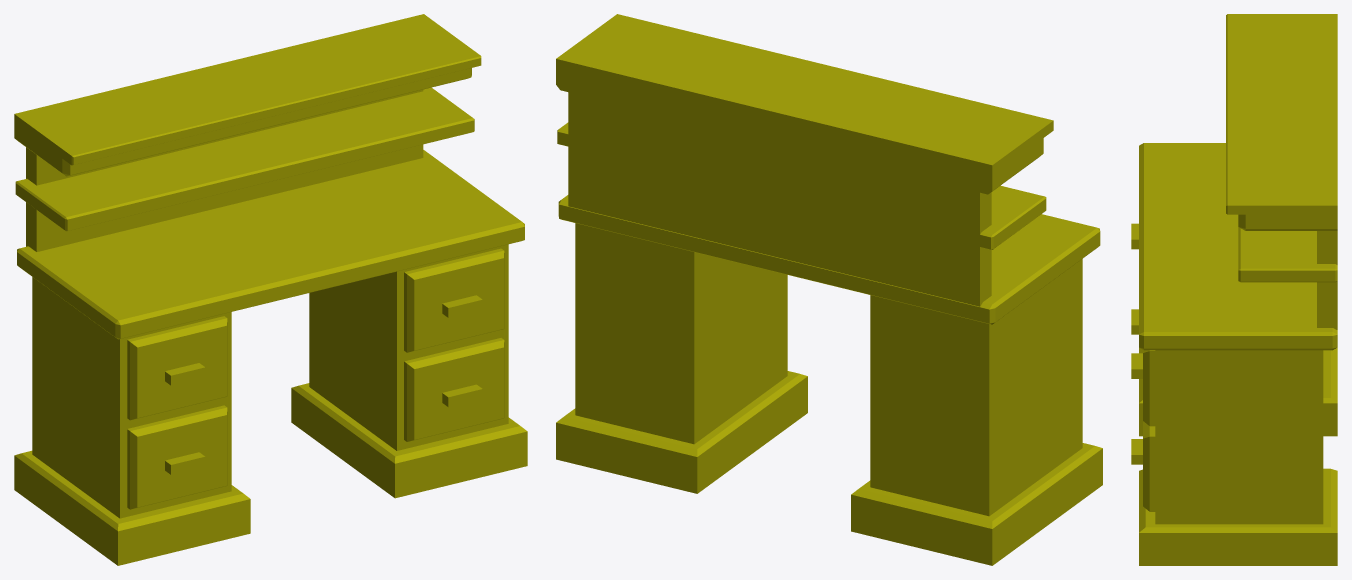
File: desk_low.fbx
The picture shows the model from 3 angles, left to right: view 1: azimuth 30°, elevation 25°; view 2: azimuth 150°, elevation 25°; view 3: azimuth 270°, elevation 25°; orthographic projection. The views are drawn at different scales.
Visible parts, largest first — view 1: desk_low; view 2: desk_low; view 3: desk_low.
Part boxes in pixels (x1=…): desk_low: x1=14, y1=14, x2=527, y2=565; desk_low: x1=556, y1=14, x2=1102, y2=565; desk_low: x1=1131, y1=14, x2=1337, y2=565.
Size of the model in its own units: 180 by 158 by 82.08.
